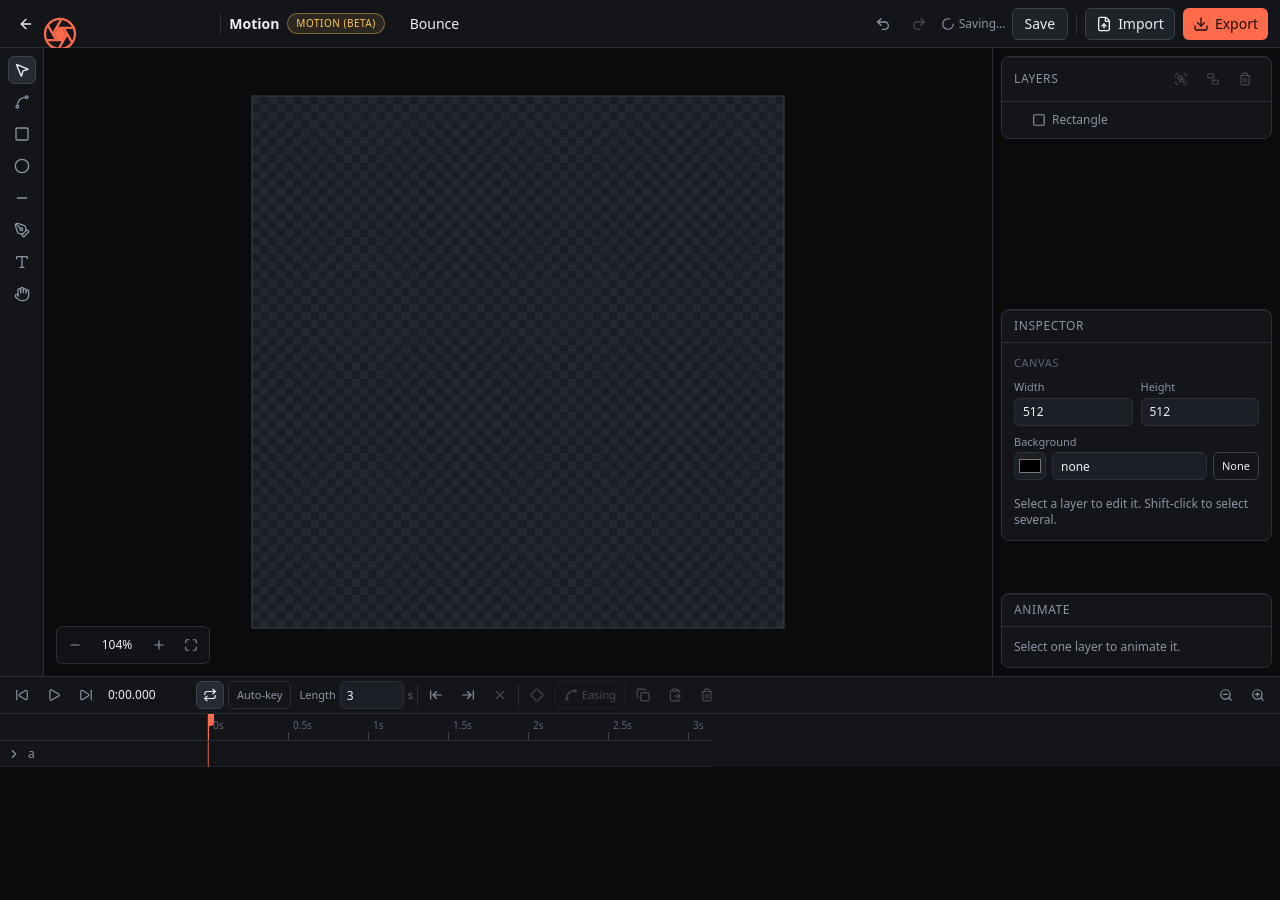
Test: Motion editor: account save + 409 flow › Reload theirs offers a download first, then replaces the document
Expected: the element with test id "vector-save-status" is shown, [941,8,1068,40]
What coordinates should you click on to do the following:
click the button "Save"
I would click on:
 (1040, 24)
Its box is [1012,8,1068,40].
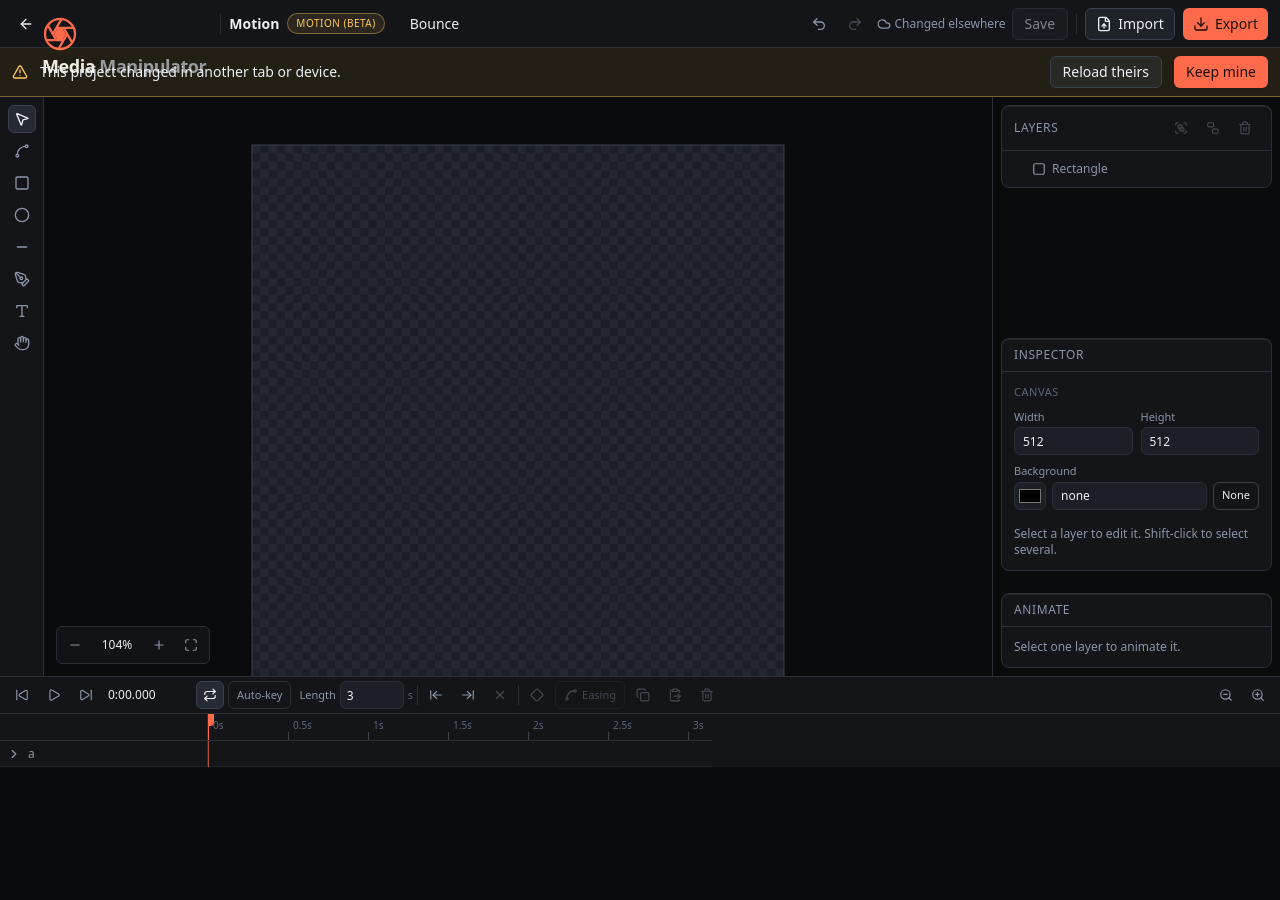
What coordinates should you click on to do the following:
click the button "Reload theirs"
I would click on:
 (1106, 72)
Its box is [1050,56,1162,88].
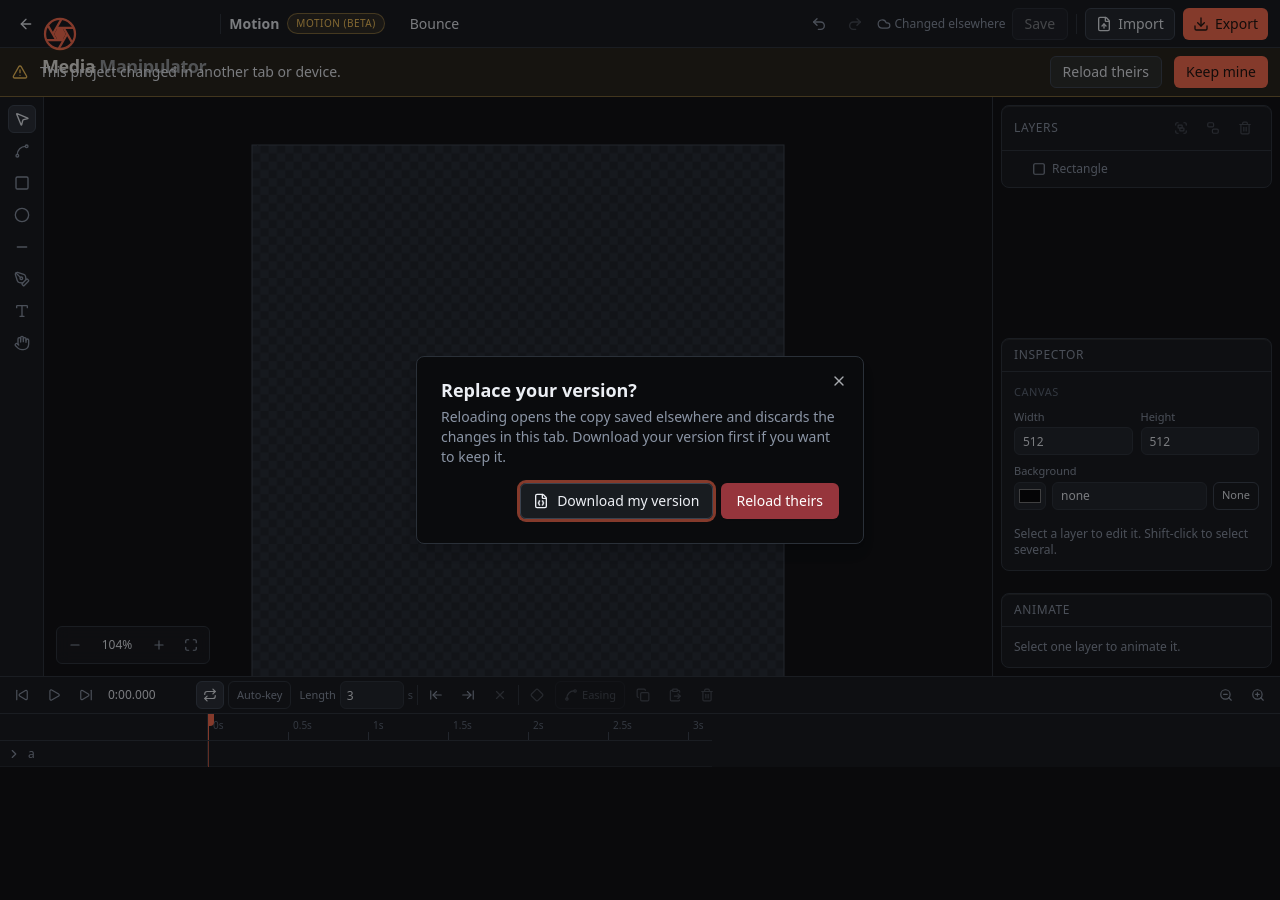
Expected: the button "Download my version" is shown, [520,483,712,519]
What coordinates should you click on to do the following:
click the button "Reload theirs"
I would click on:
 (780, 501)
Its box is [720,483,839,519].
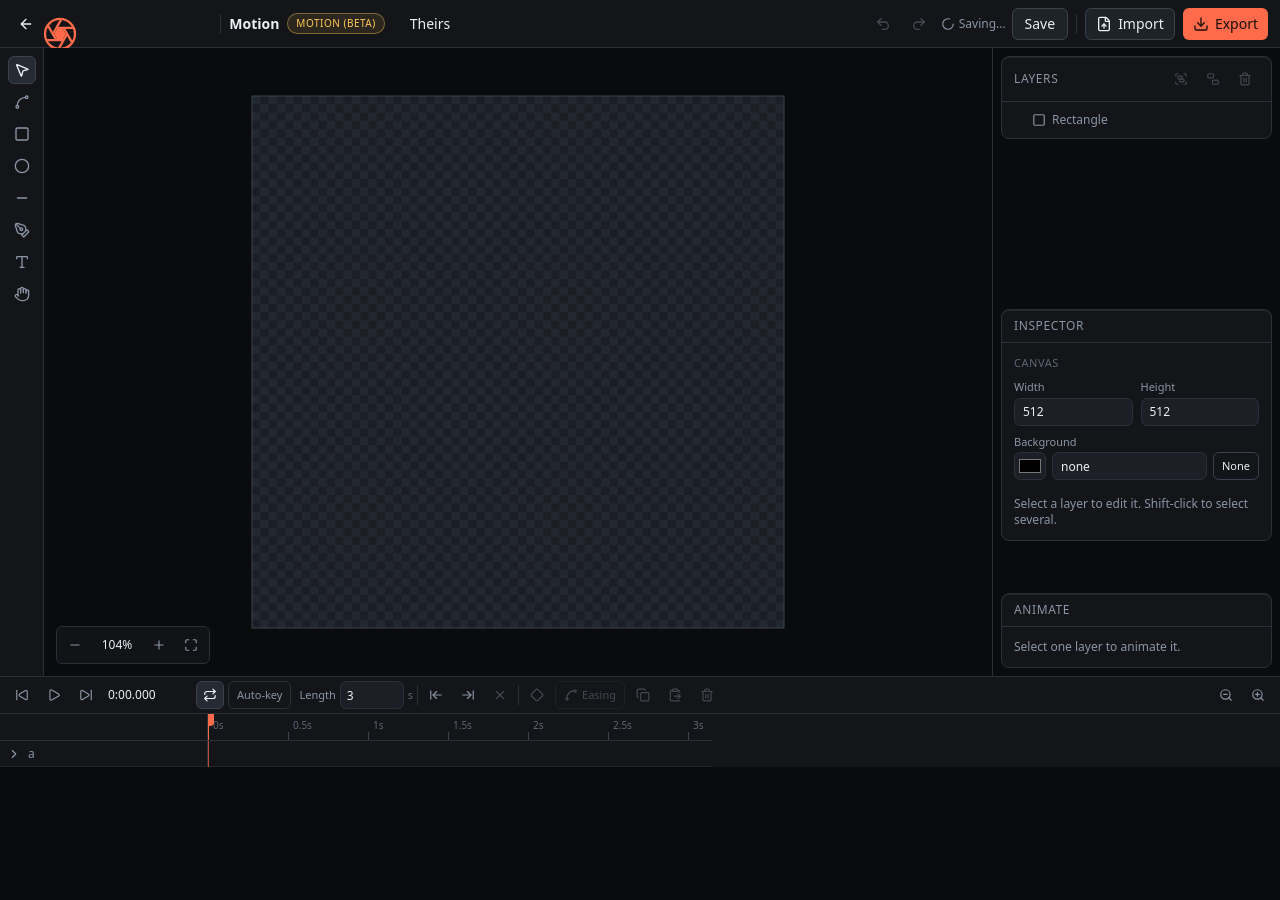
Expected: the message with test id "vector-conflict-banner" is gone
